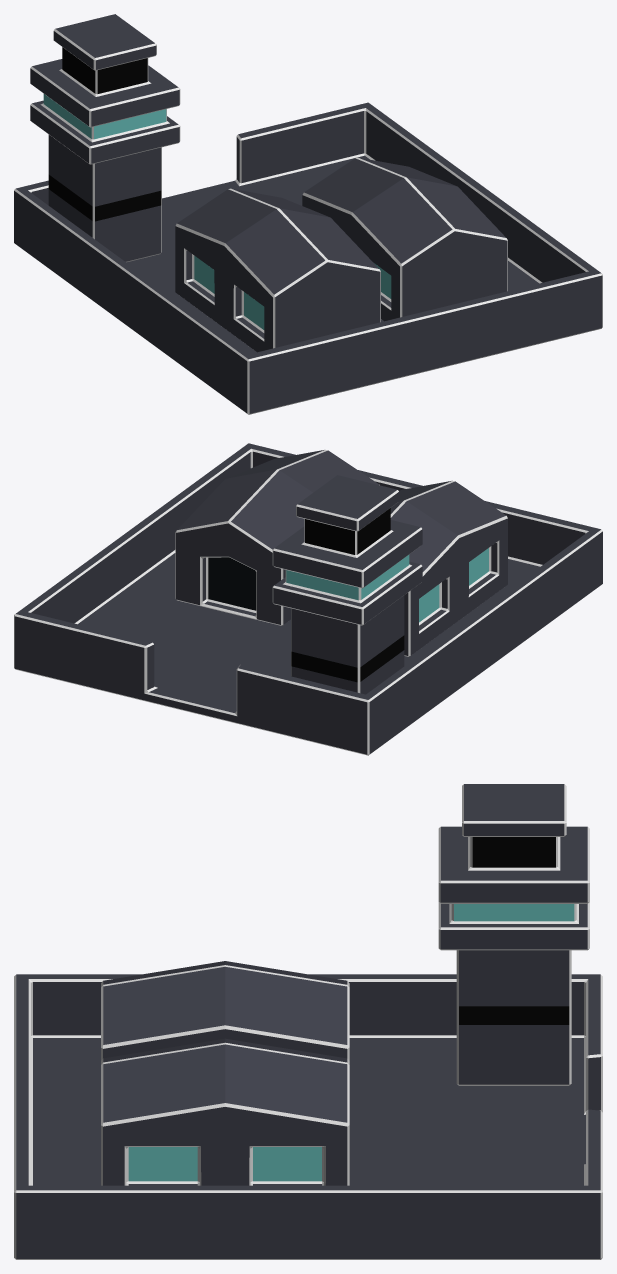
The model's file is Barracks 1.fbx.
3 renders of one model, top to bottom at view 1: azimuth 30°, elevation 25°; view 2: azimuth 150°, elevation 25°; view 3: azimuth 270°, elevation 25°, orthographic. The views are drawn at different scales.
Visible parts, largest first — view 1: Cube.002; view 2: Cube.002; view 3: Cube.002.
Boxes of the visible parts, x1=… form: Cube.002: x1=14, y1=14, x2=602, y2=414; Cube.002: x1=14, y1=443, x2=602, y2=755; Cube.002: x1=14, y1=784, x2=602, y2=1259.
Bounding box in the file's own units: 6.59 × 3.89 × 7.54.
